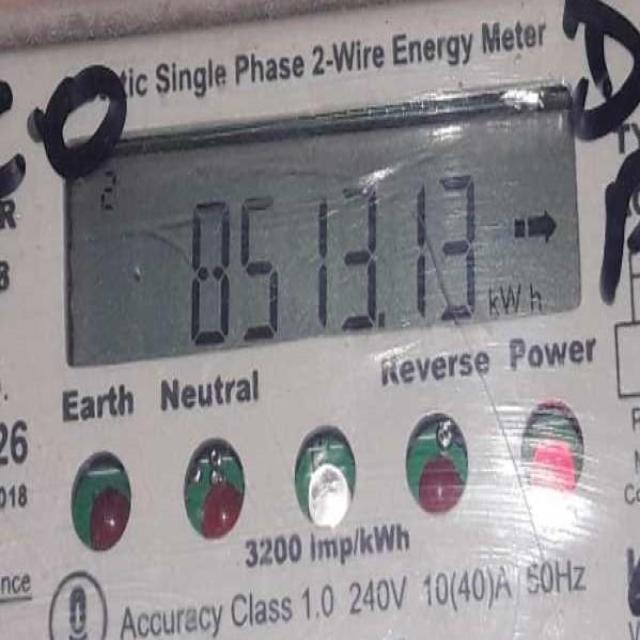1: (312, 184, 340, 338), (414, 171, 437, 337)
3: (442, 179, 485, 329), (340, 183, 379, 334)
5: (240, 192, 284, 346)
8: (188, 194, 233, 342)
Digital meter: (66, 149, 578, 349)
point: (378, 304, 392, 338)
